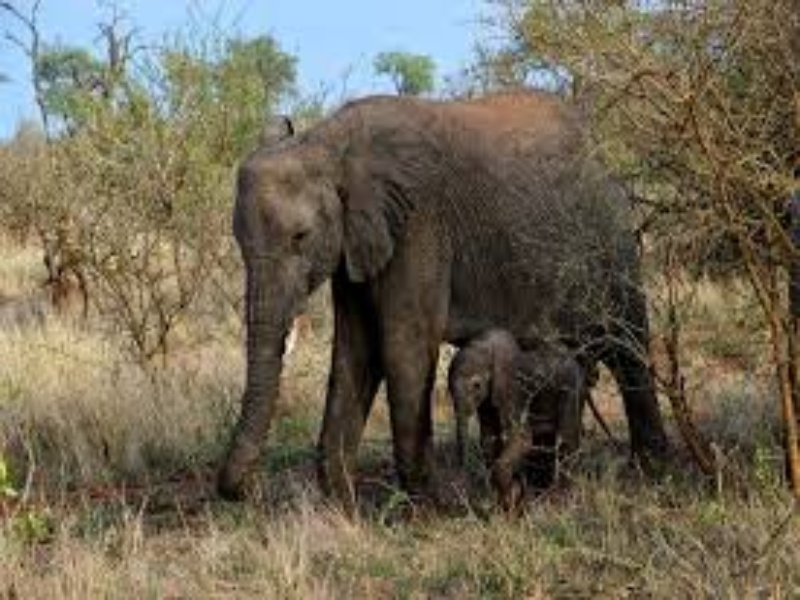elephant: (218, 83, 694, 517)
